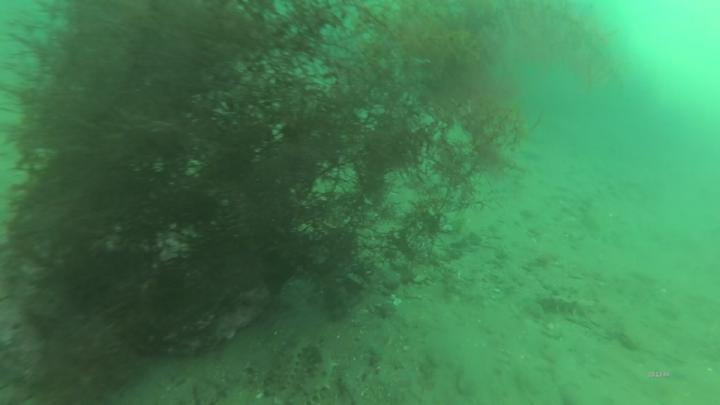holothurian: (341, 343, 380, 404), (267, 336, 303, 401), (302, 343, 338, 401), (540, 292, 608, 321)
waterweeds: (1, 1, 530, 349)
